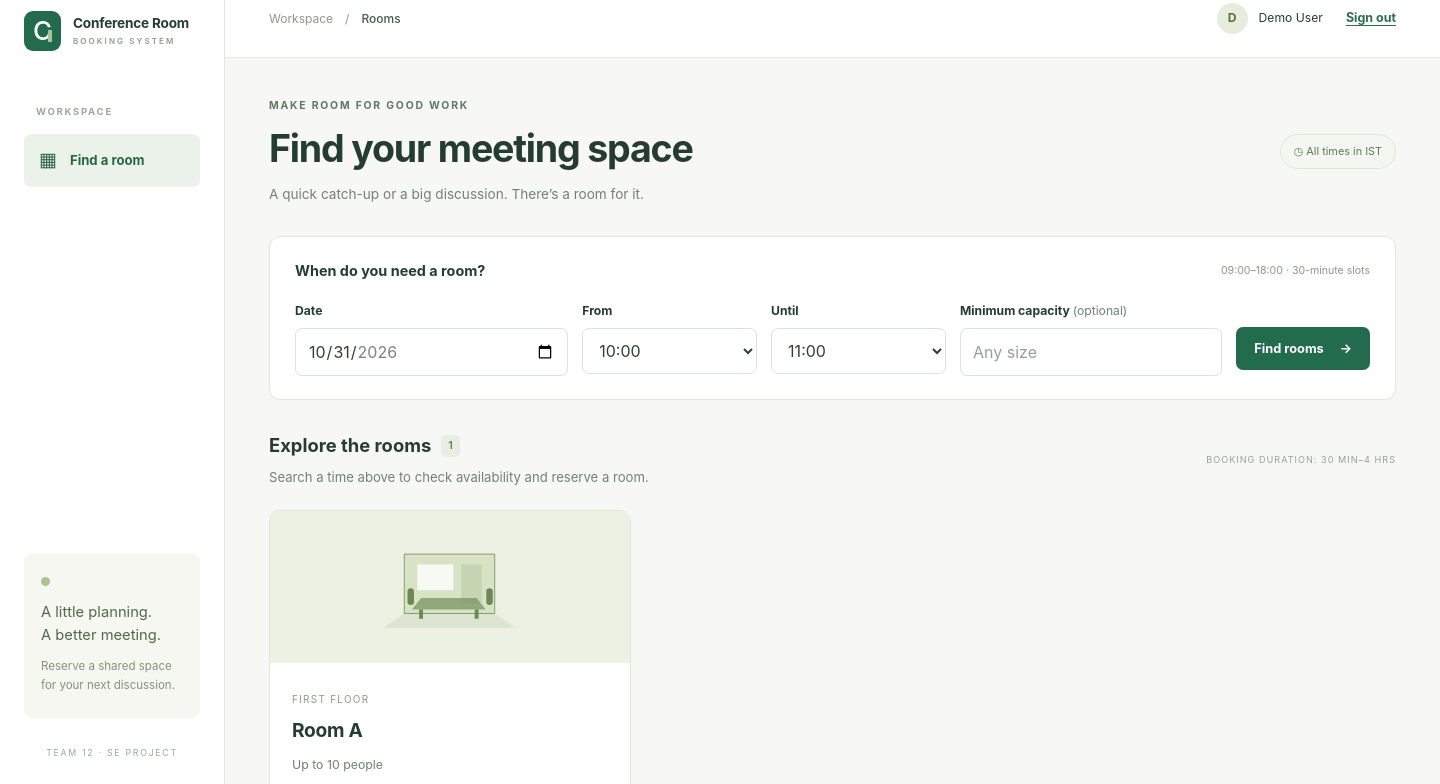
Test: TC04 / TC05 / TC06 / TC07 booking flow › requires a nonblank meeting purpose before posting
Expected: the heading "Room A" is shown, x1=292 y1=718 x2=362 y2=742
Click the button "Find rooms →" at (1303, 348), box x1=1236 y1=327 x2=1370 y2=370
(page scrolled)
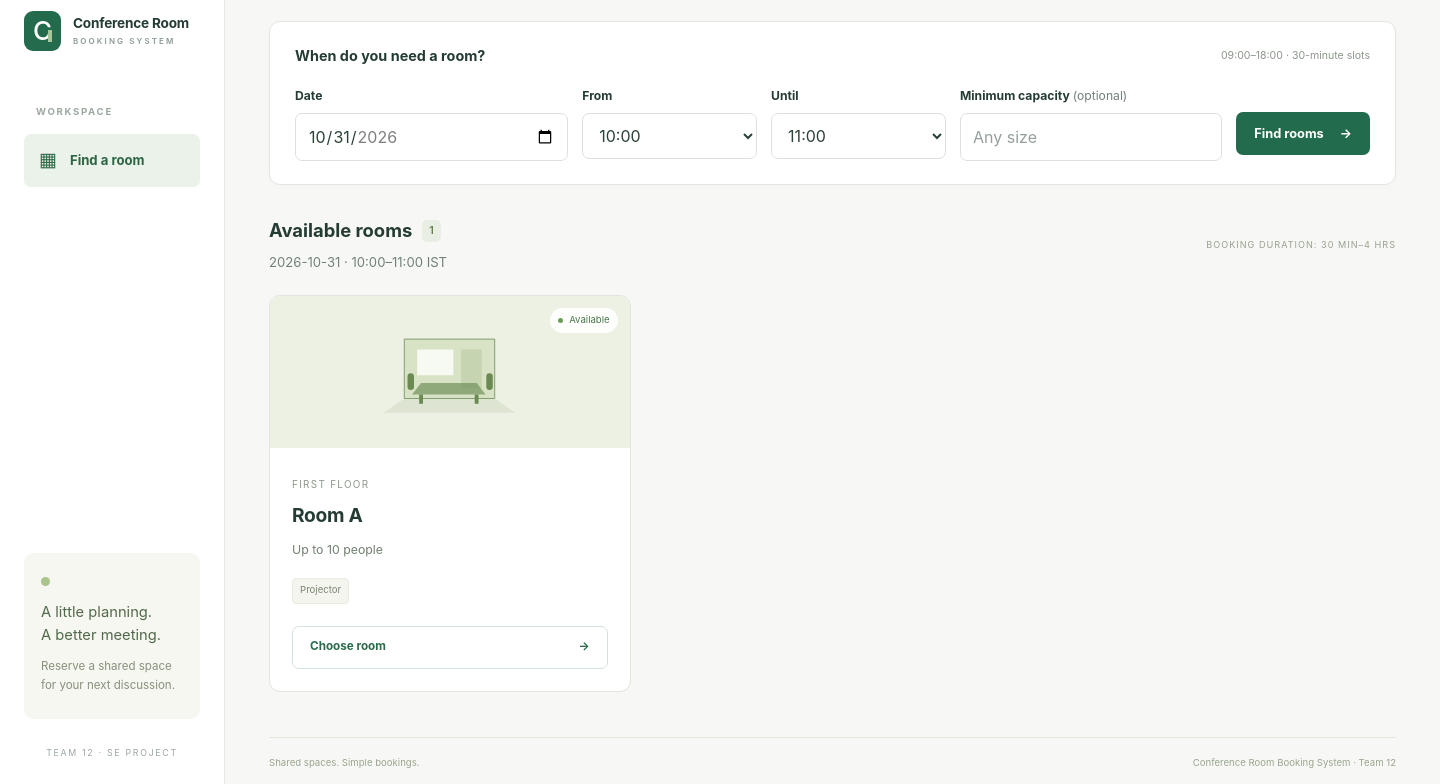
Now the heading "Available rooms 1" is shown, box x1=269 y1=217 x2=447 y2=245
Click the button "Choose room →" at (348, 646), box x1=292 y1=626 x2=608 y2=668
(page scrolled)
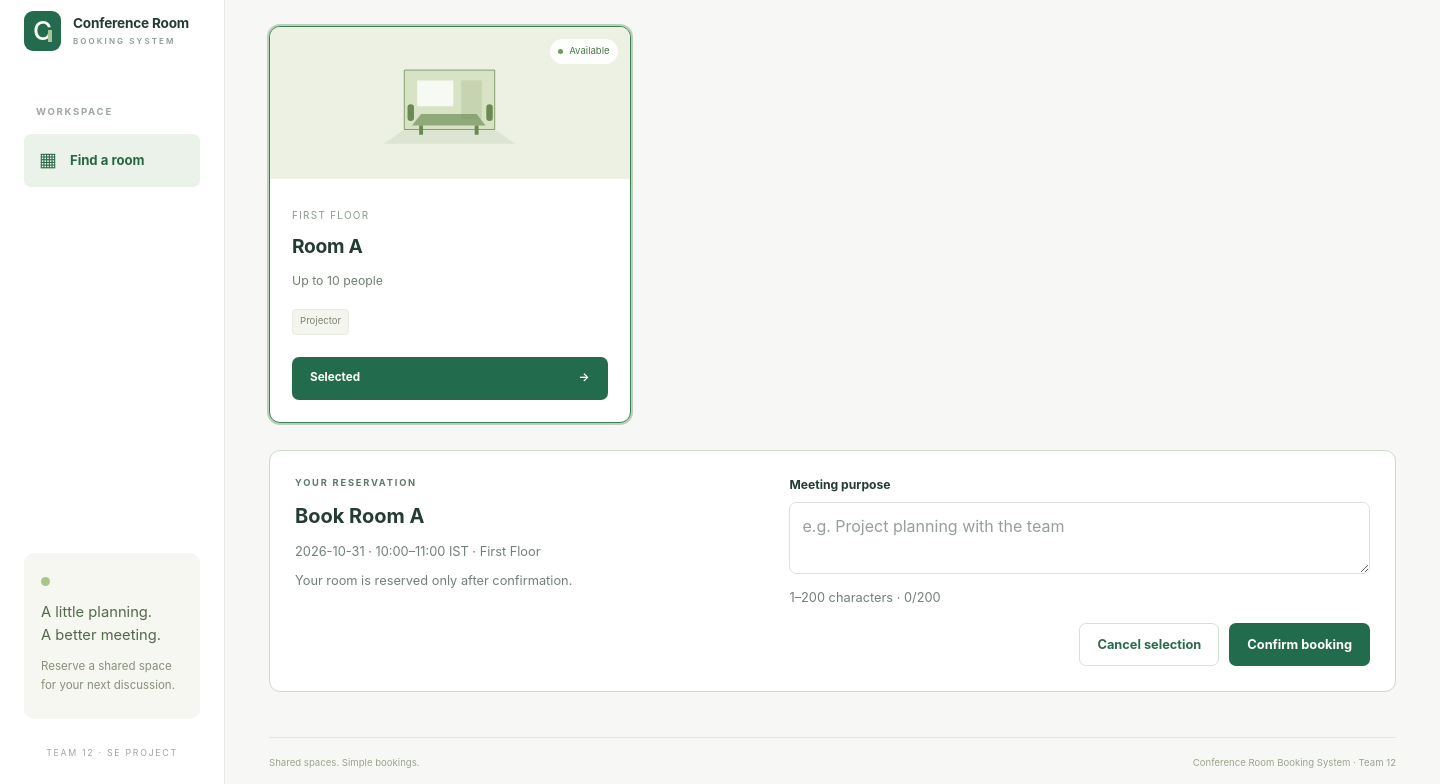
Click the button "Confirm booking" at (1300, 644), box x1=1229 y1=623 x2=1370 y2=666
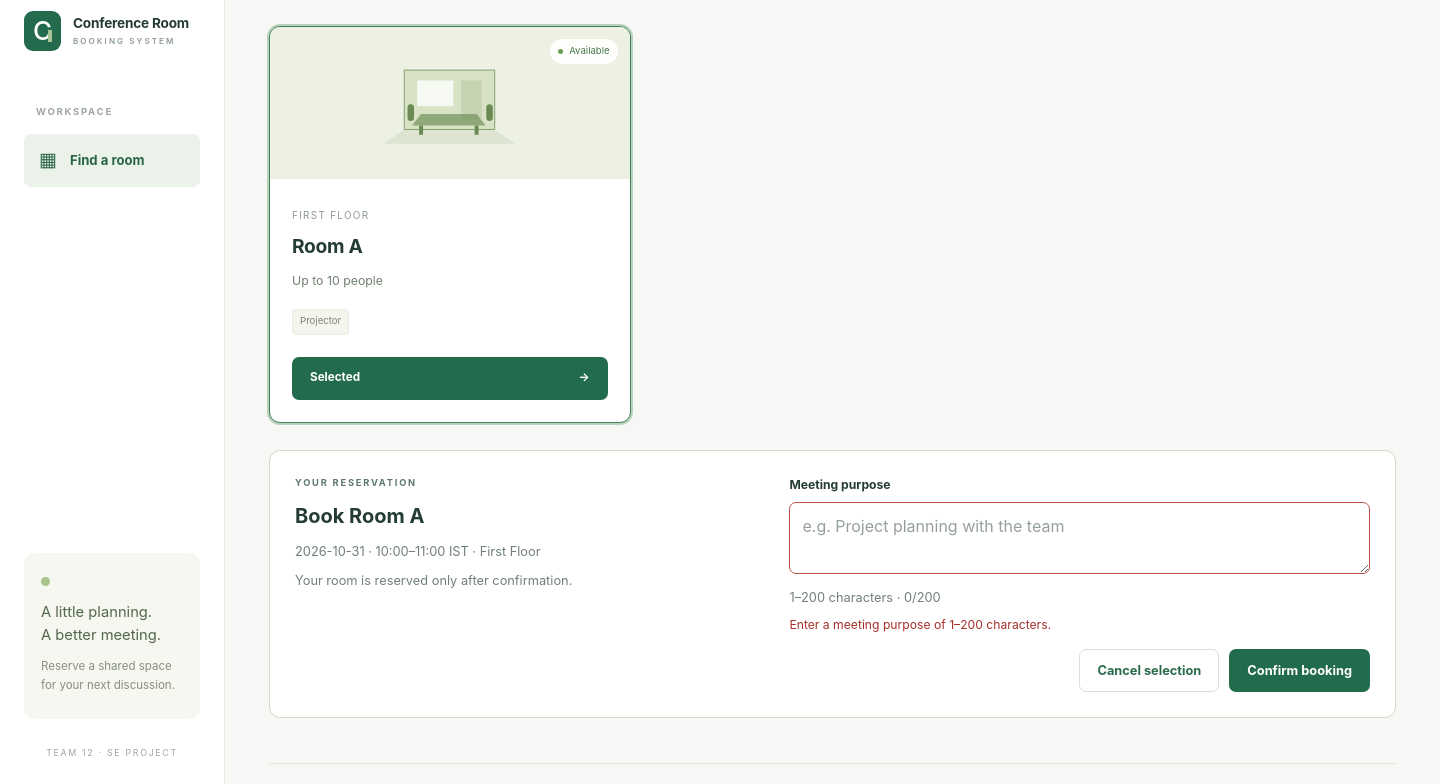
Now the text "Enter a meeting purpose of 1–200 characters." is shown, box x1=789 y1=617 x2=1051 y2=632
